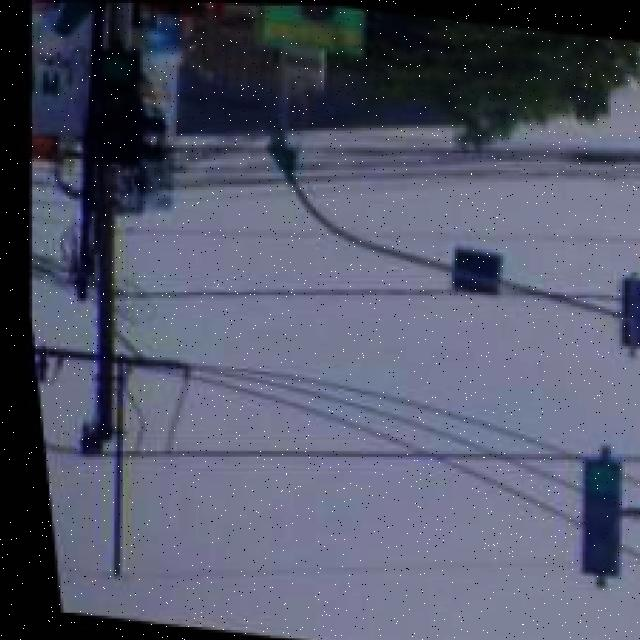Lampu Hijau: (76, 45, 147, 170), (560, 455, 622, 577)
